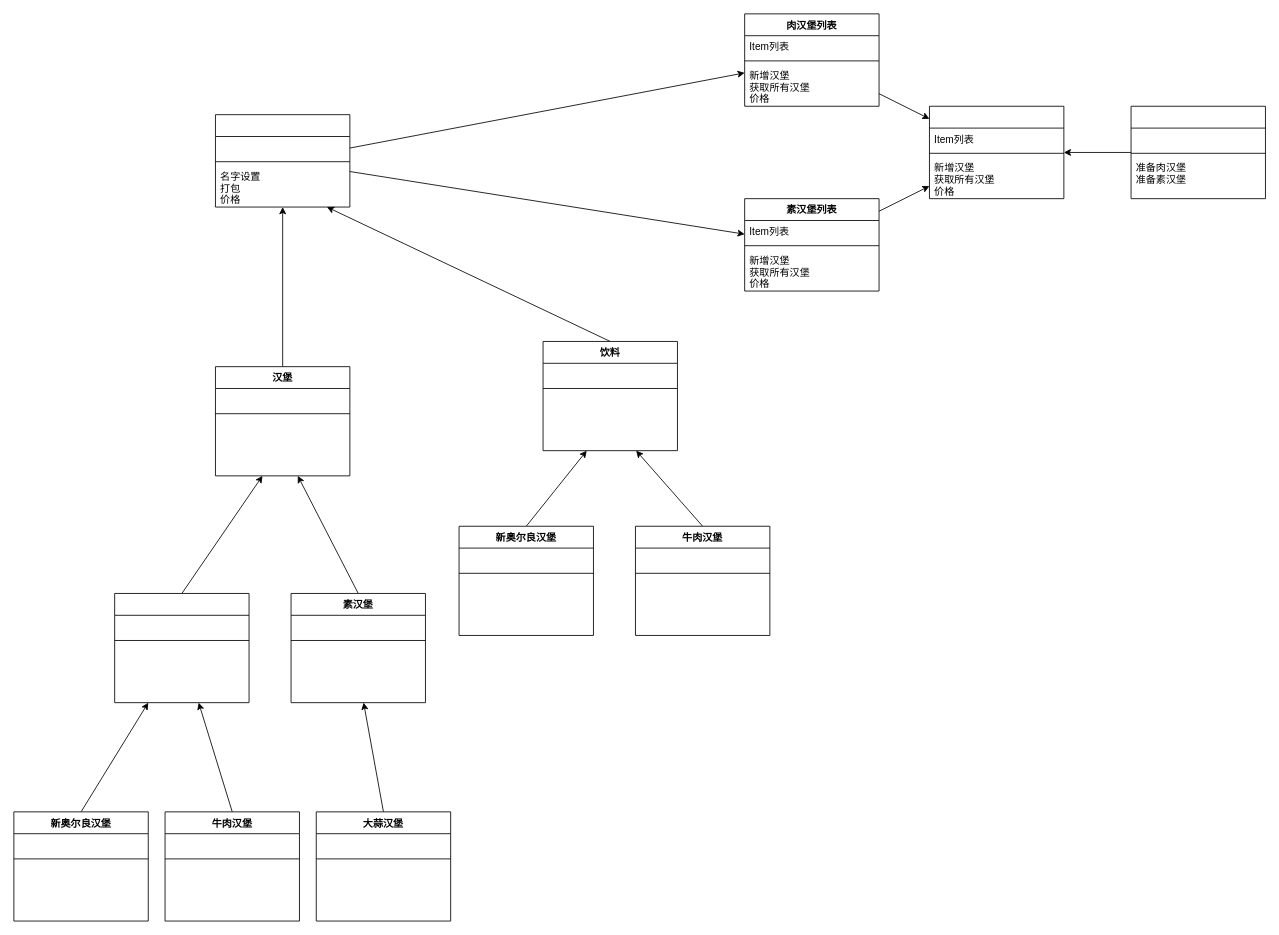
Some shapes in this 1279 by 935 pixel diagram are drawn without their labels. Here are the shapes that lost their labels. From the top down, the box of each, then its label:
(215, 114, 350, 207): Item
(929, 105, 1064, 199): 汉堡列表
(1130, 105, 1265, 199): 汉堡建造者
(114, 593, 249, 703): 肉汉堡
